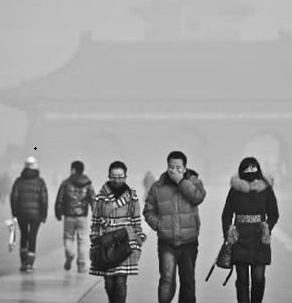person: (143, 151, 207, 303), (216, 155, 280, 303), (89, 161, 146, 303), (7, 156, 50, 274), (55, 161, 97, 271)
